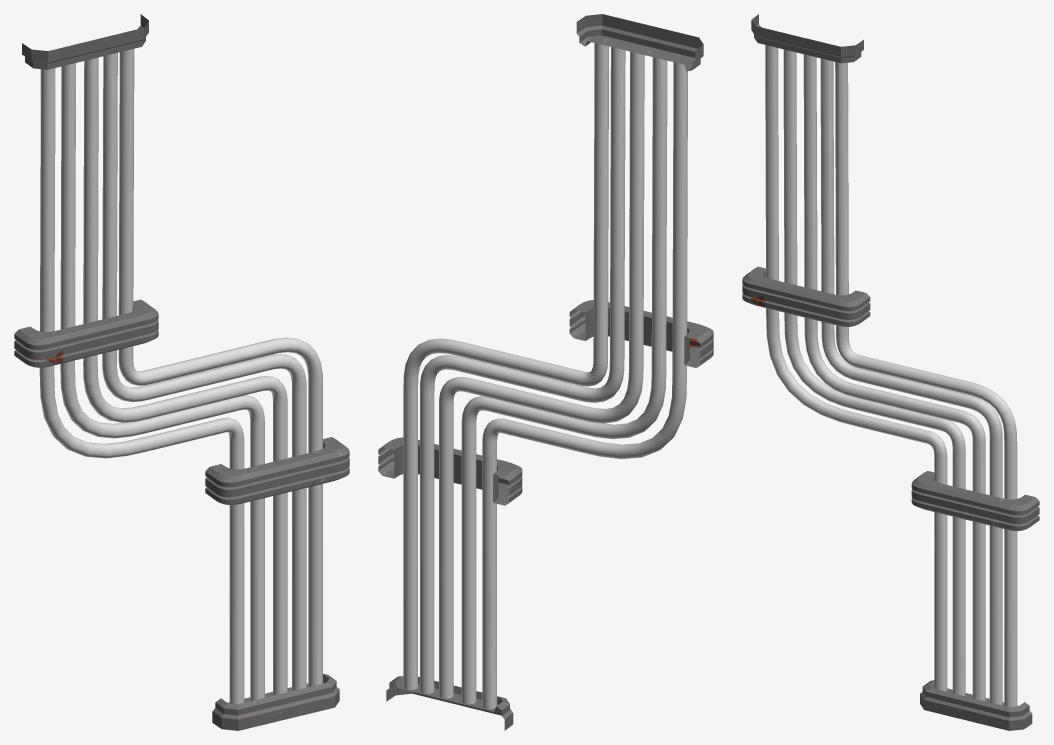
File: KB3D_CBP_Cables_B.fbx
3 views of the same model, side by side, from view 1: azimuth 30°, elevation 25°; view 2: azimuth 150°, elevation 25°; view 3: azimuth 330°, elevation 25° (orthographic). The views are drawn at different scales.
Parts seen in each view (by area): view 1: KB3D_CBP_Cables_B_Main; view 2: KB3D_CBP_Cables_B_Main; view 3: KB3D_CBP_Cables_B_Main.
Part boxes in pixels (<box>): KB3D_CBP_Cables_B_Main: <box>14,14,349,730</box>; KB3D_CBP_Cables_B_Main: <box>378,14,713,730</box>; KB3D_CBP_Cables_B_Main: <box>742,14,1039,730</box>.
Bounding box in the file's own units: 134 × 289 × 13.71.
